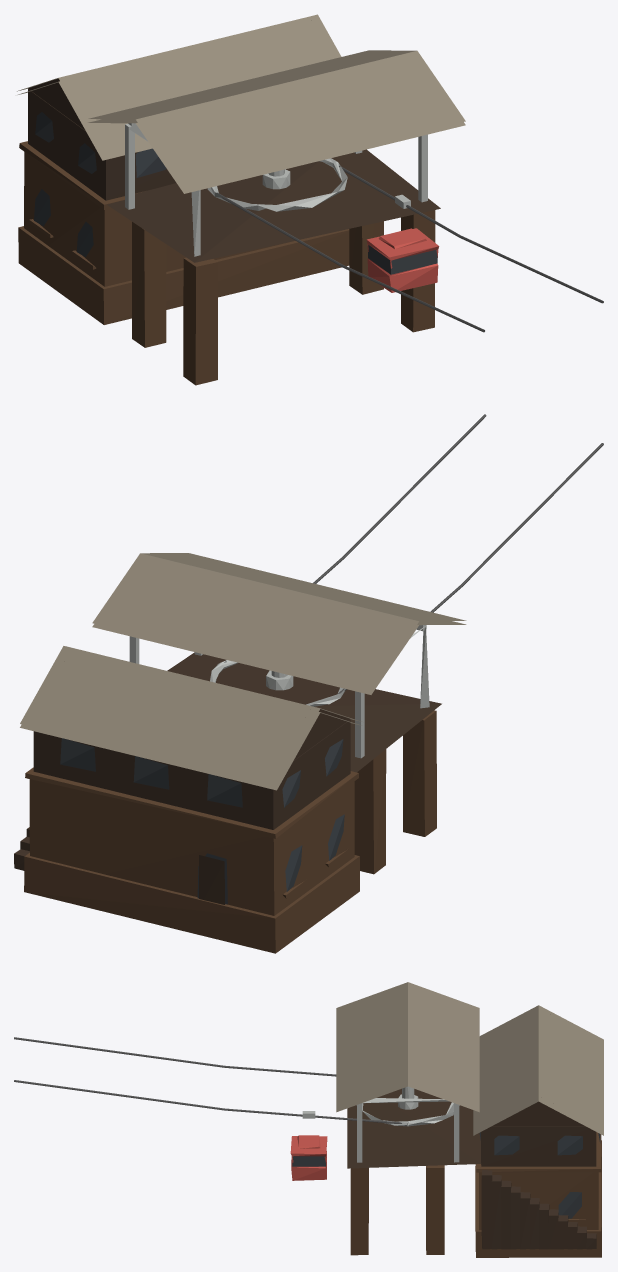
File: cablecar-station-lod1.glb
3 renders of one model, top to bottom at view 1: azimuth 30°, elevation 25°; view 2: azimuth 150°, elevation 25°; view 3: azimuth 270°, elevation 25°, orthographic. The views are drawn at different scales.
Size of the model in its own units: 11.4 by 9.4 by 28.01.
